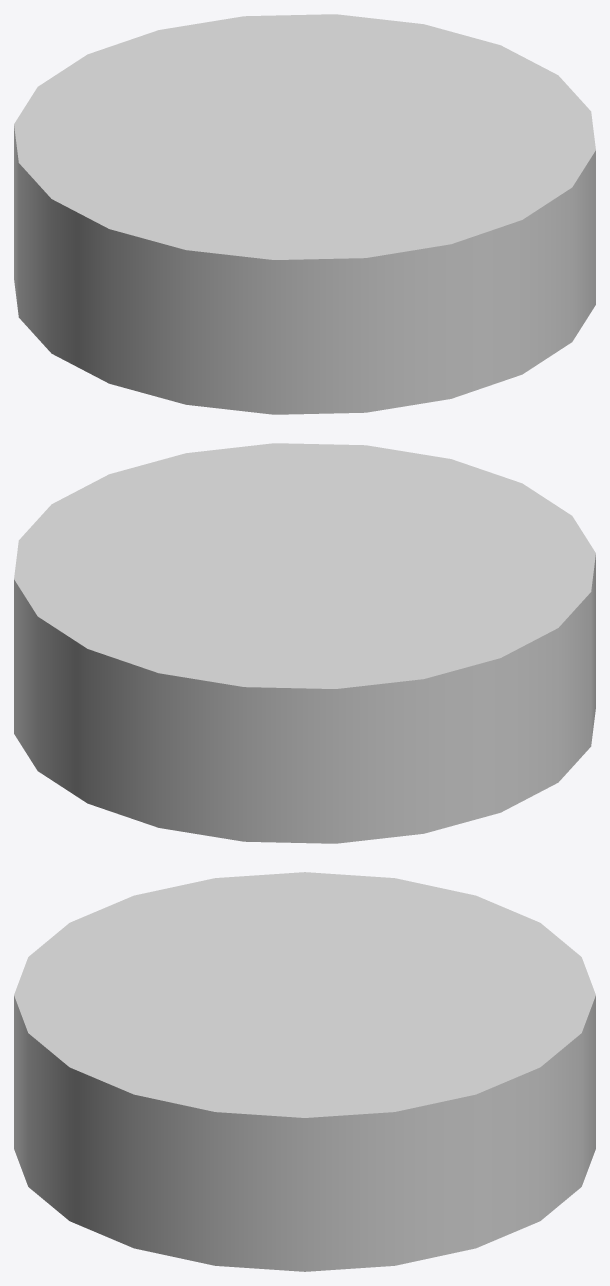
Rendered from link_rear_wheel.glb.
3 renders of one model, top to bottom at view 1: azimuth 30°, elevation 25°; view 2: azimuth 150°, elevation 25°; view 3: azimuth 270°, elevation 25°, orthographic.
Parts seen in each view (by area): view 1: link_base.3obj.004; view 2: link_base.3obj.004; view 3: link_base.3obj.004.
Part boxes in pixels (<box>): link_base.3obj.004: <box>14,14,595,414</box>; link_base.3obj.004: <box>14,443,595,843</box>; link_base.3obj.004: <box>14,872,595,1271</box>.
Size of the model in its own units: 0.0762 by 0.0222 by 0.0762.
1 material, 1 textured.
